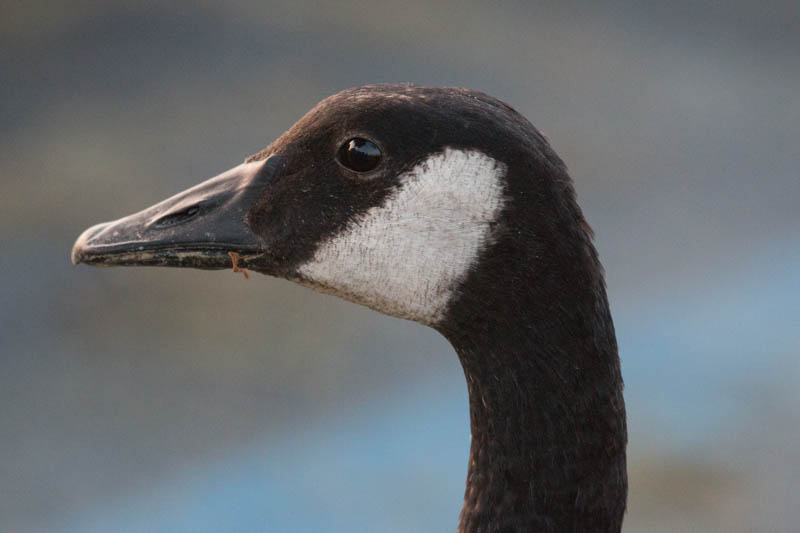goose-head: (70, 82, 608, 331)
